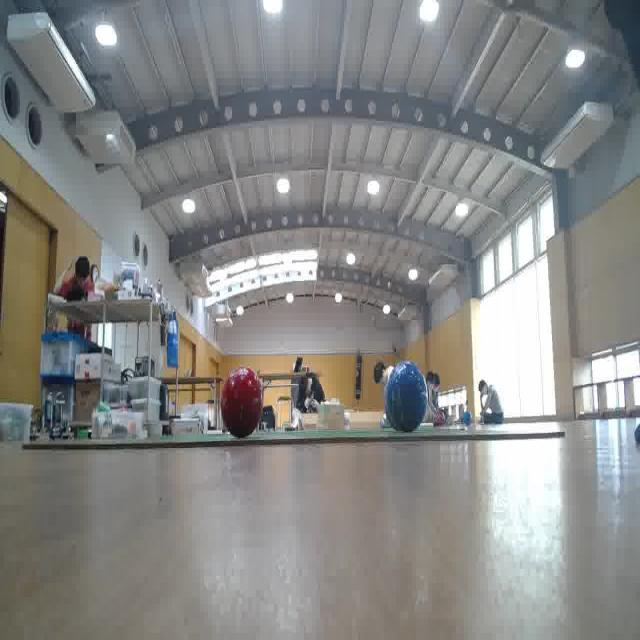blue_ball: (378, 348, 432, 436)
red_ball: (207, 362, 280, 434)
